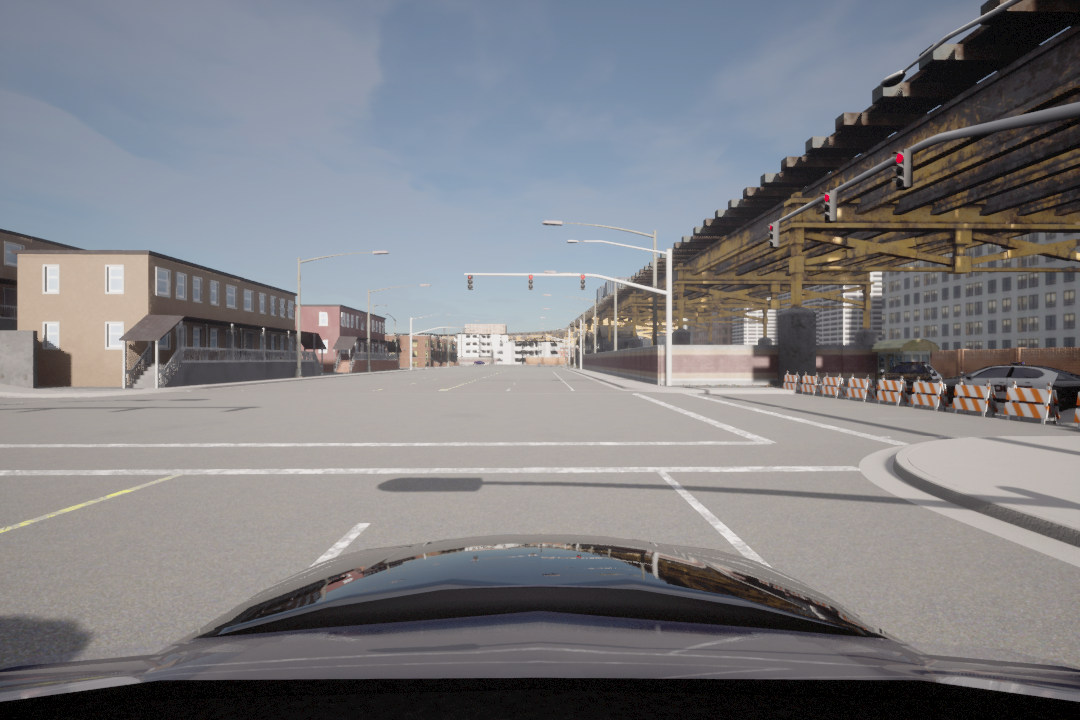TrafficLight: (886, 147, 917, 198), (818, 190, 838, 224), (762, 220, 781, 252), (577, 270, 591, 295), (462, 273, 477, 296), (527, 272, 537, 294)
